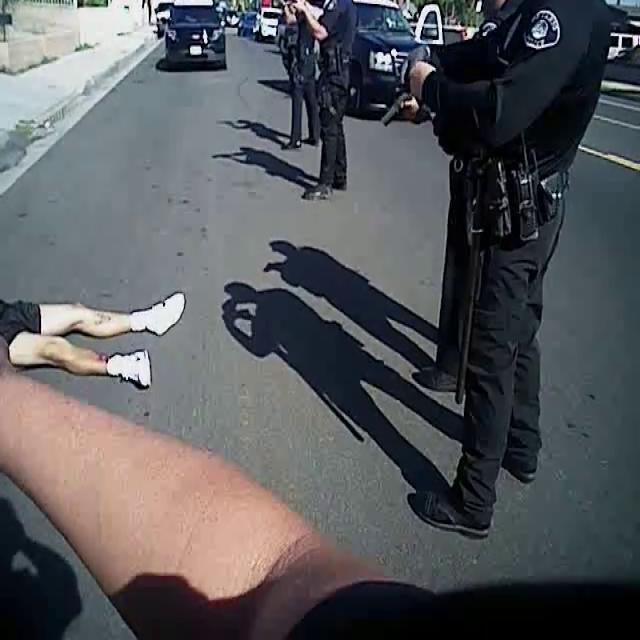gun: (376, 29, 442, 140)
